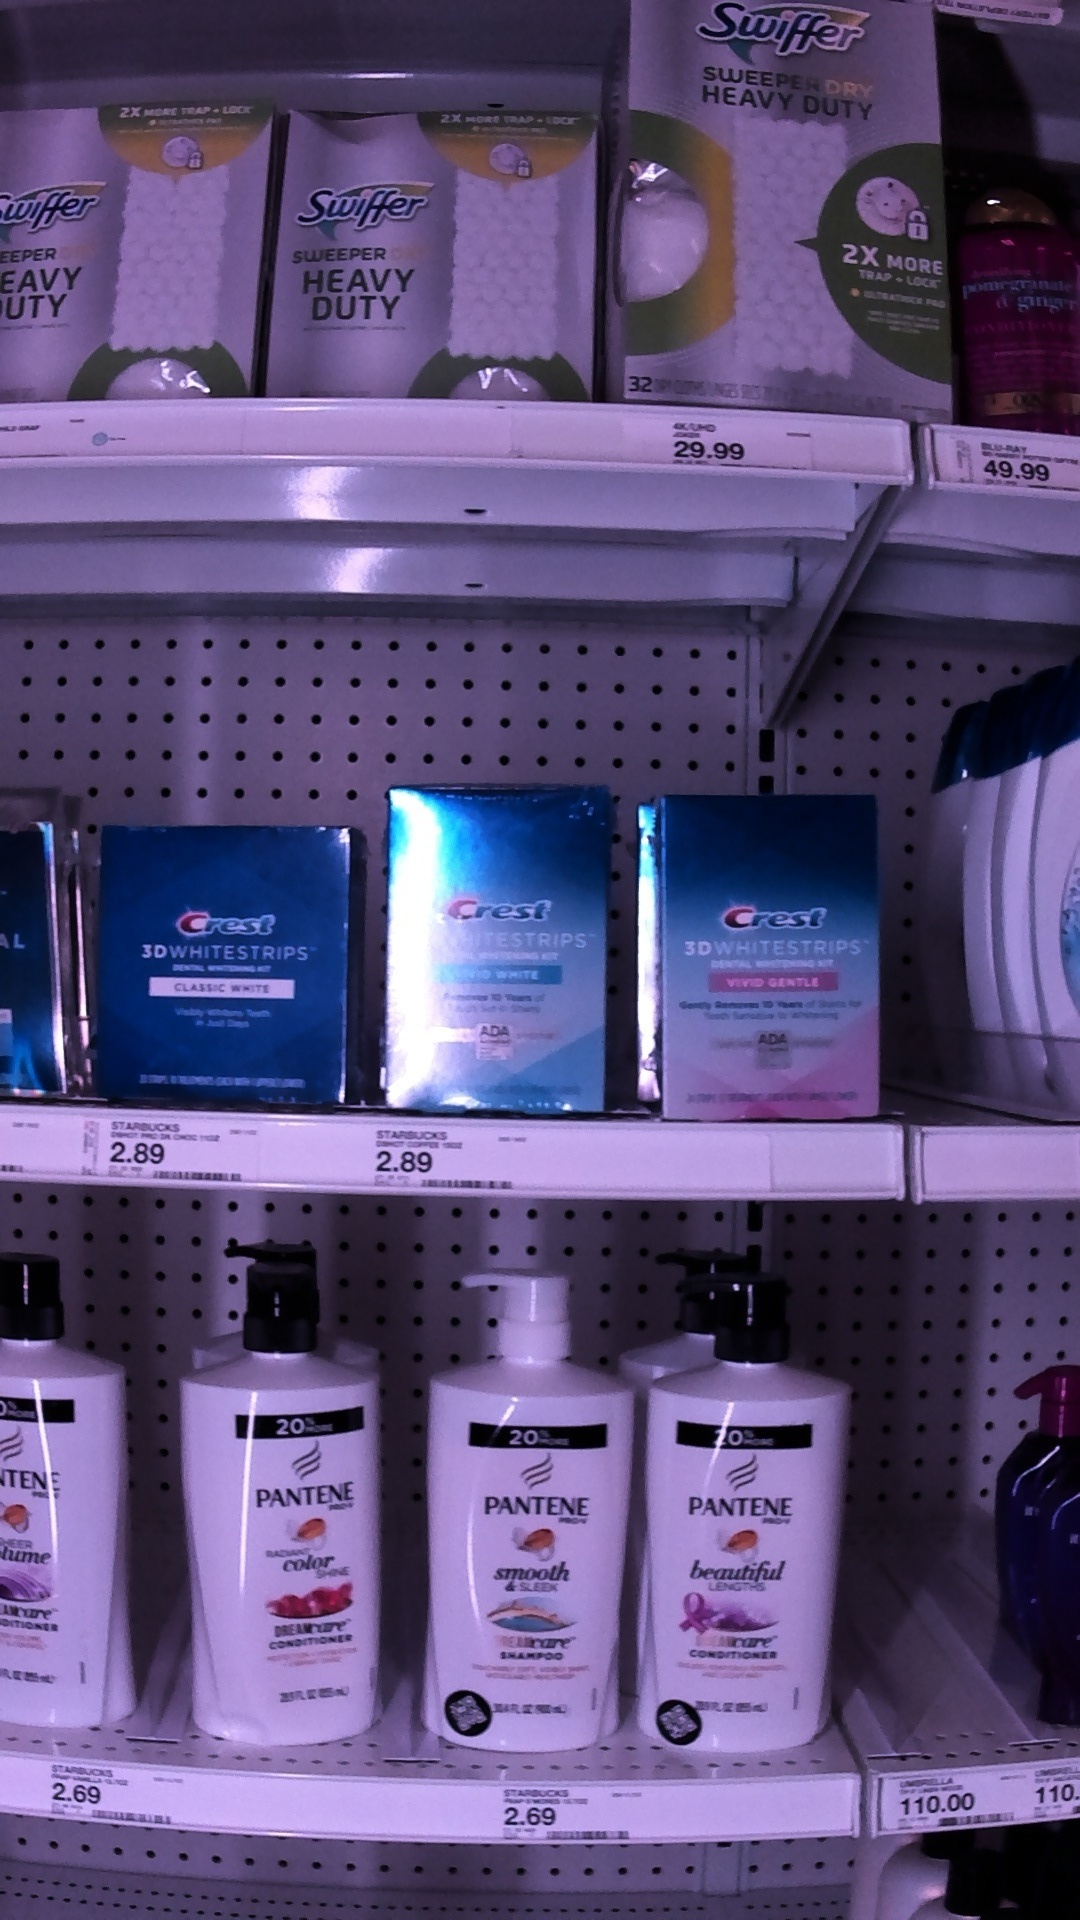ptag: (360, 1112, 545, 1207), (662, 406, 835, 491), (42, 1749, 186, 1842), (98, 1116, 247, 1191), (945, 419, 1080, 502), (866, 1768, 1013, 1836), (495, 1784, 644, 1842)
